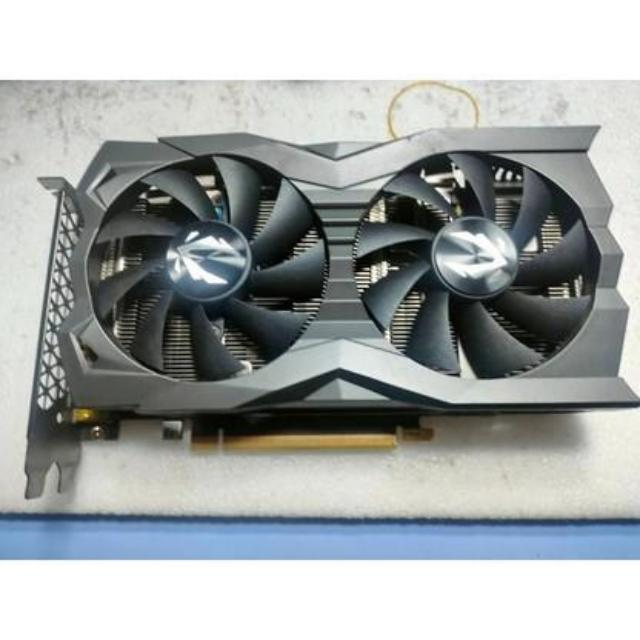GPU: (46, 124, 640, 462)
